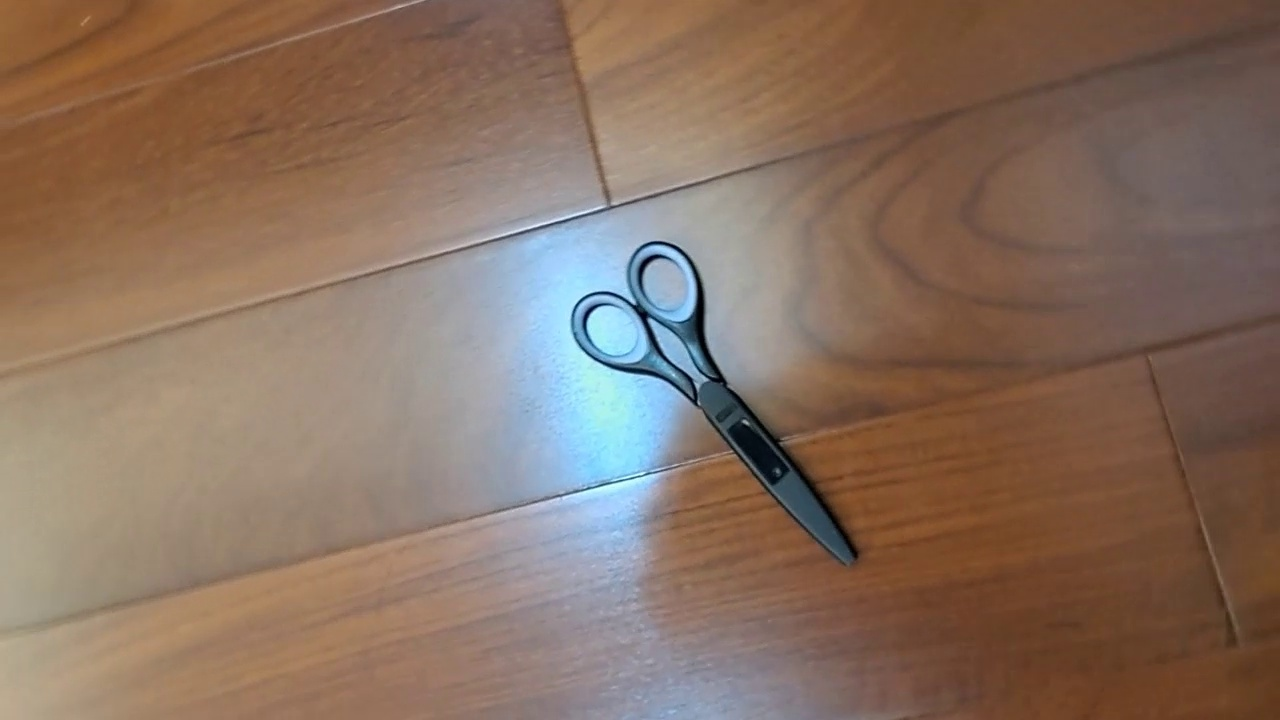scissors: (570, 240, 861, 569)
